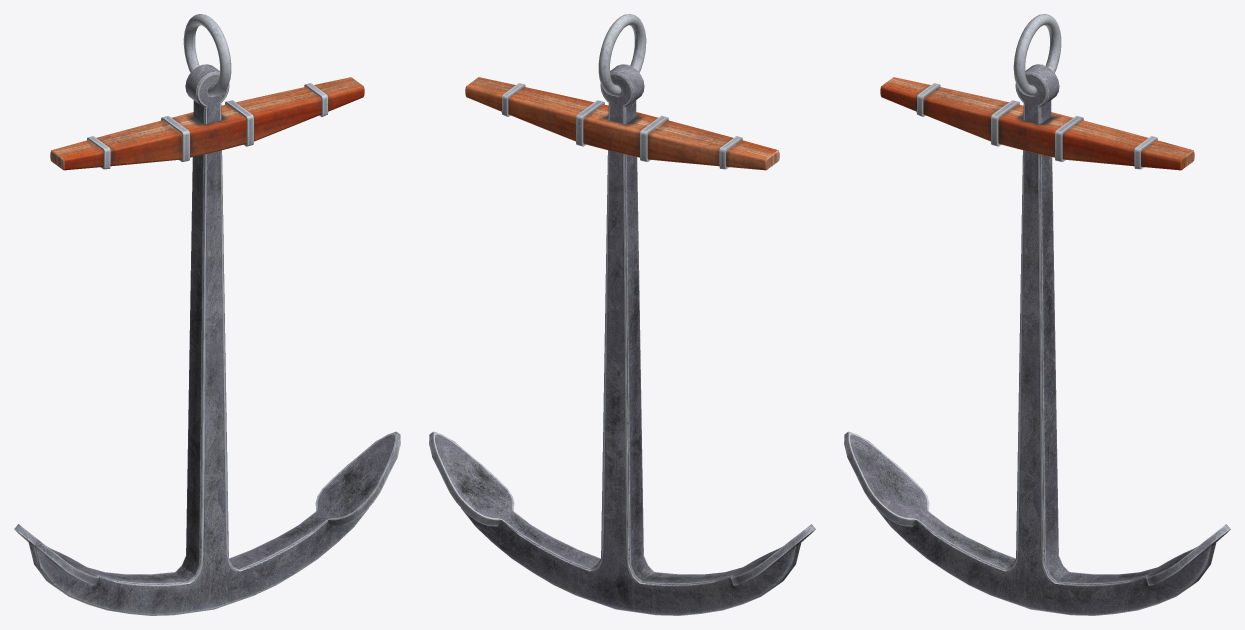
3 renders of one model, left to right at view 1: azimuth 30°, elevation 25°; view 2: azimuth 150°, elevation 25°; view 3: azimuth 330°, elevation 25°, orthographic.
Visible parts, largest first — view 1: GO_Node_00, GO_Node_03, GO_Node_02, GO_Node_04, GO_Node_01; view 2: GO_Node_00, GO_Node_03, GO_Node_02, GO_Node_04, GO_Node_01; view 3: GO_Node_03, GO_Node_00, GO_Node_02, GO_Node_01, GO_Node_04.
Part boxes in pixels (left/top/right/bottom): GO_Node_00: left=50, top=14, right=364, bottom=170; GO_Node_03: left=14, top=513, right=284, bottom=615; GO_Node_02: left=186, top=330, right=228, bottom=523; GO_Node_04: left=263, top=431, right=400, bottom=579; GO_Node_01: left=189, top=154, right=224, bottom=345; GO_Node_00: left=465, top=14, right=779, bottom=170; GO_Node_03: left=545, top=513, right=815, bottom=615; GO_Node_02: left=601, top=330, right=643, bottom=523; GO_Node_04: left=429, top=431, right=566, bottom=579; GO_Node_01: left=605, top=154, right=640, bottom=345; GO_Node_03: left=844, top=431, right=1104, bottom=615; GO_Node_00: left=880, top=14, right=1194, bottom=170; GO_Node_02: left=1016, top=327, right=1058, bottom=523; GO_Node_01: left=1019, top=154, right=1054, bottom=345; GO_Node_04: left=1092, top=524, right=1230, bottom=614.
Size of what is drawn, in the model's own units: 1218 by 1771 by 229.
